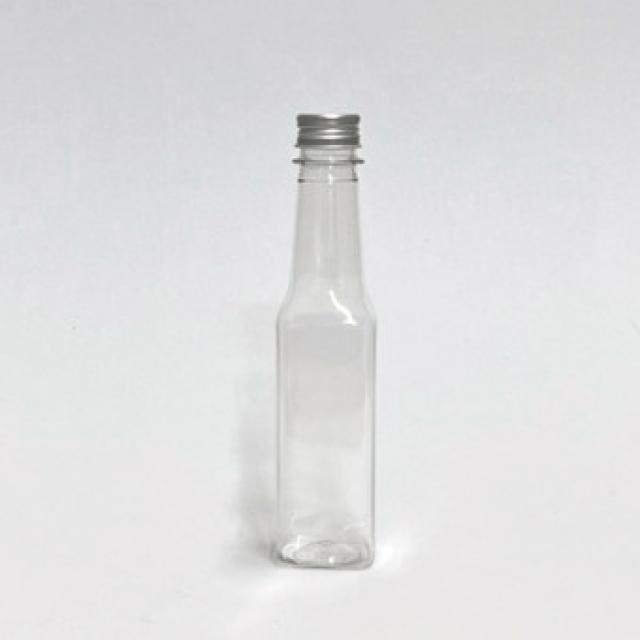plastic bottle: (271, 111, 380, 569)
